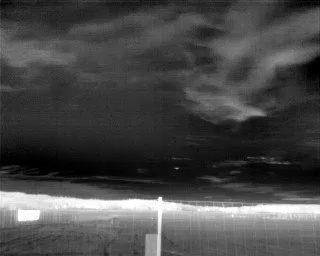AIRPLANE: (174, 165, 180, 171)
